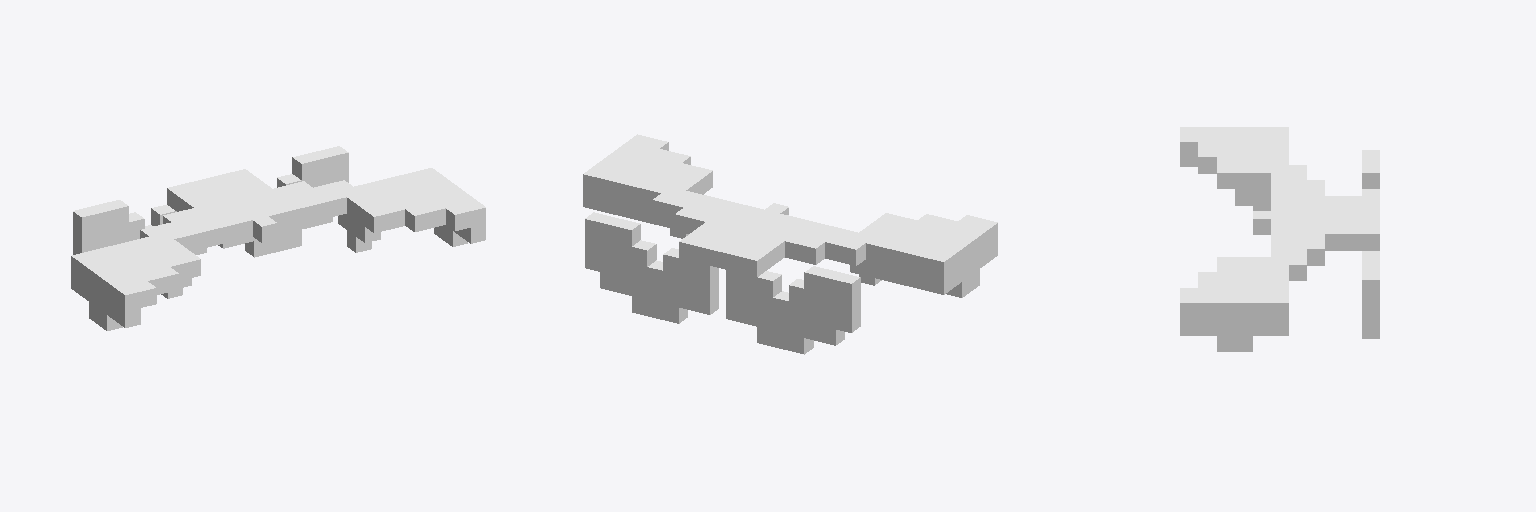
File: Hip.obj
The picture shows the model from 3 angles: view 1: azimuth 30°, elevation 25°; view 2: azimuth 150°, elevation 25°; view 3: azimuth 270°, elevation 25°; orthographic projection.
Parts seen in each view (by area): view 1: object 1; view 2: object 1; view 3: object 1.
Boxes of the visible parts, <box> form: object 1: <box>71,146,485,330</box>; object 1: <box>583,134,997,354</box>; object 1: <box>1180,127,1379,351</box>.
Bounding box in the file's own units: 2.3 × 0.5 × 1.1.